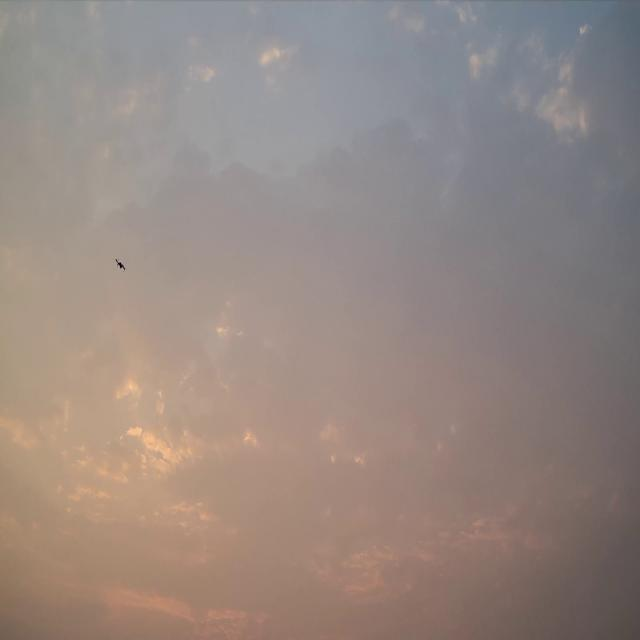drone: (114, 258, 128, 272)
